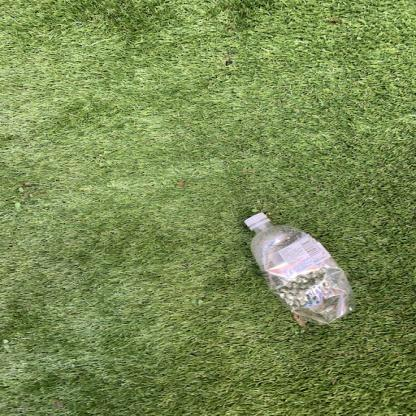trash: (245, 210, 364, 324)
